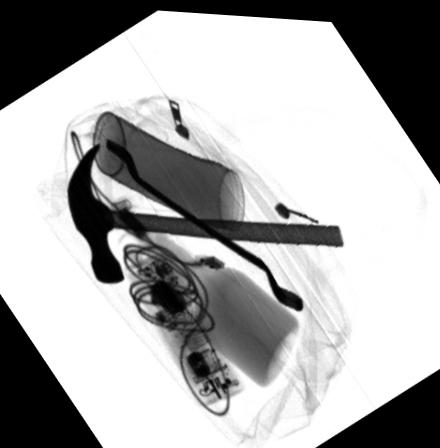Hammer: (66, 142, 343, 283)
Wrench: (104, 136, 304, 307)
